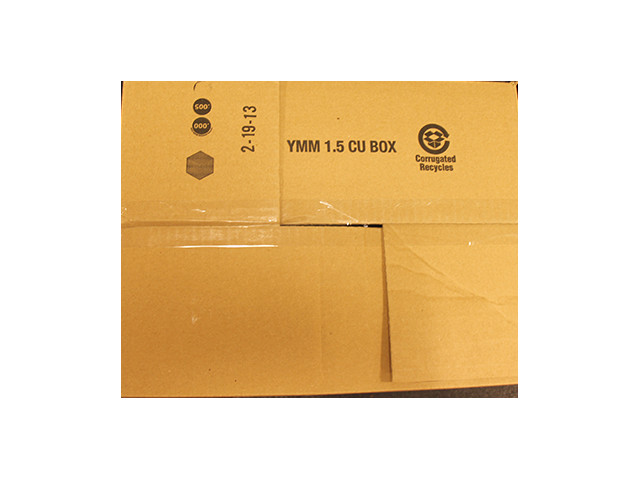cardboard: (121, 81, 515, 385)
